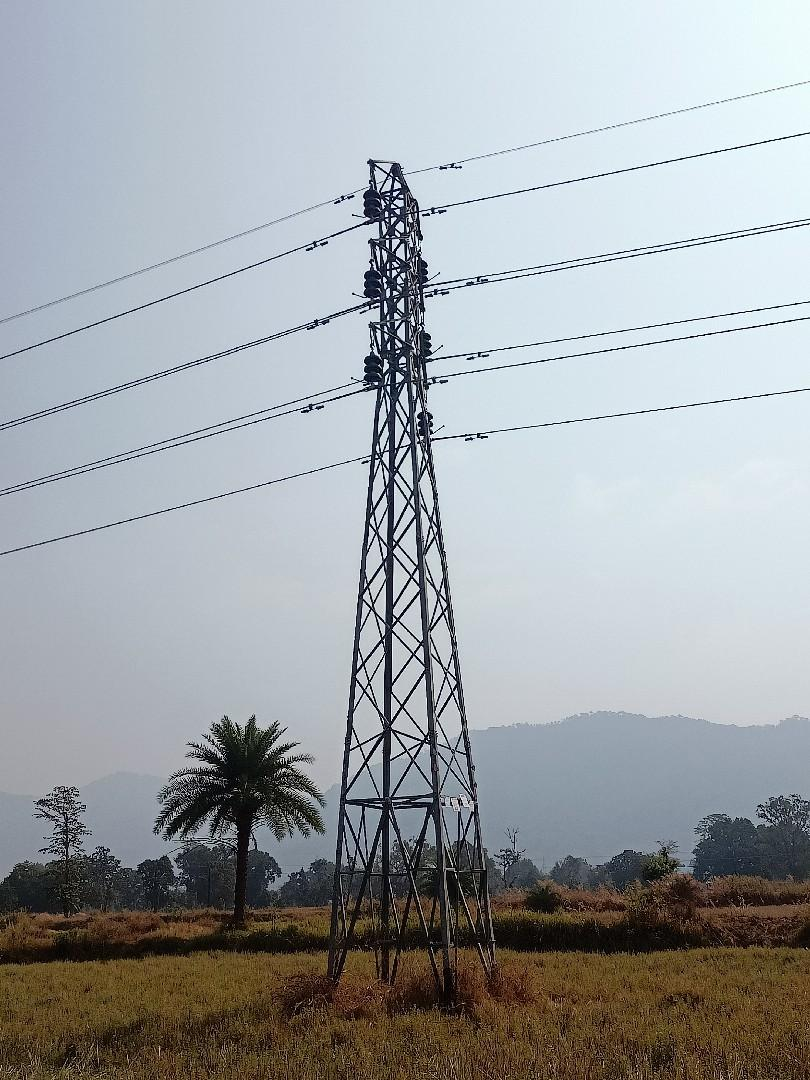GSM Antenna: (321, 156, 500, 947)
